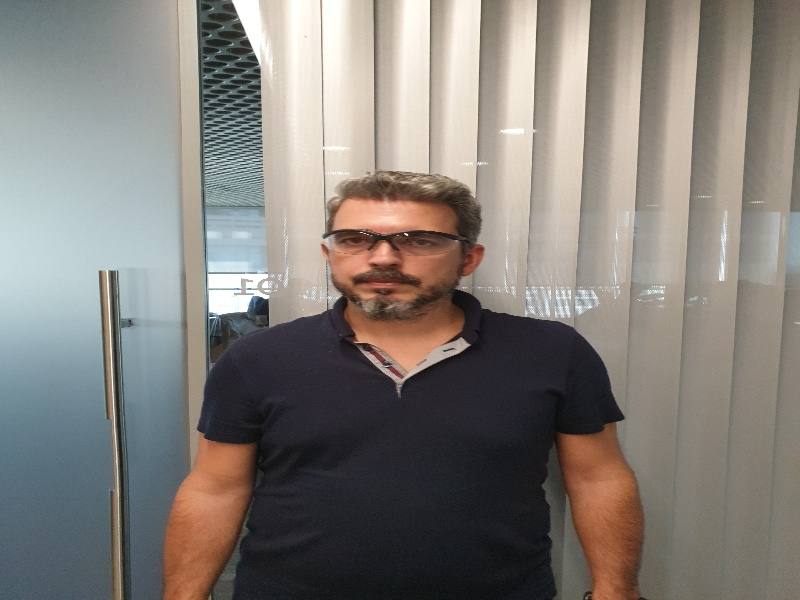Gozluk: (323, 229, 468, 255)
